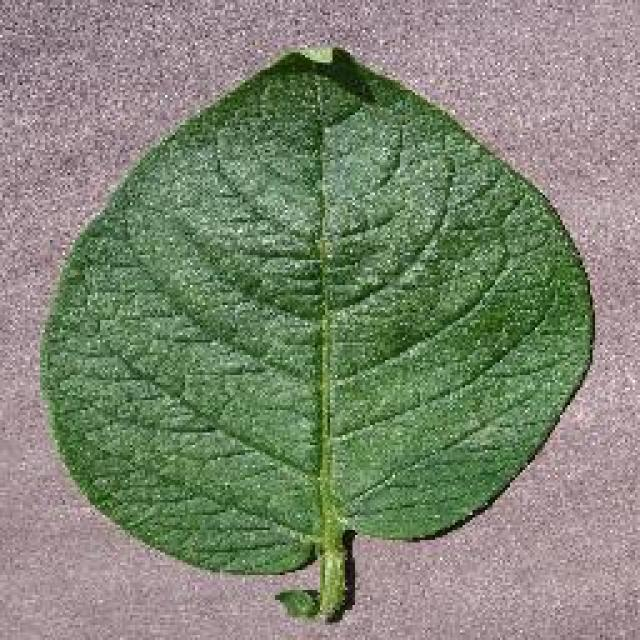healthy: (32, 40, 600, 622)
